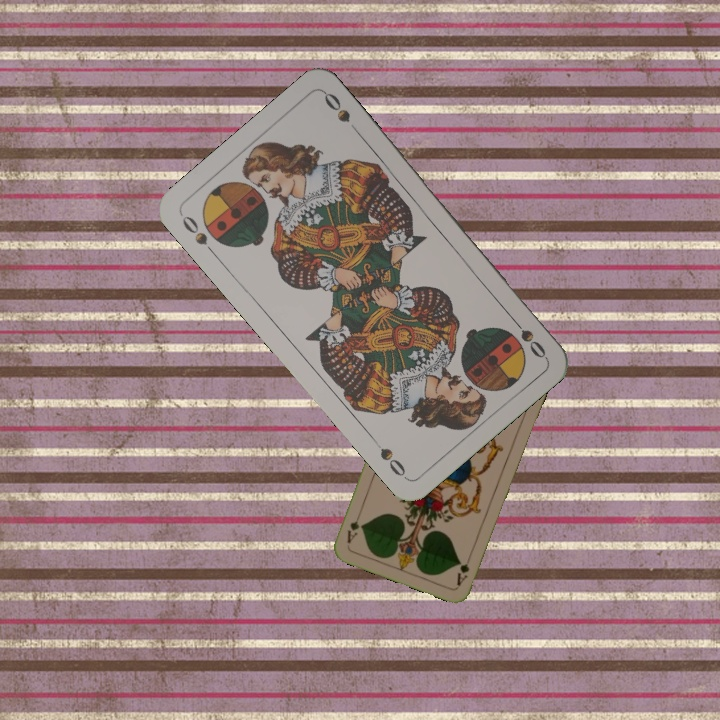GA: (453, 549, 474, 588)
SO: (505, 311, 549, 361), (177, 211, 220, 260)
